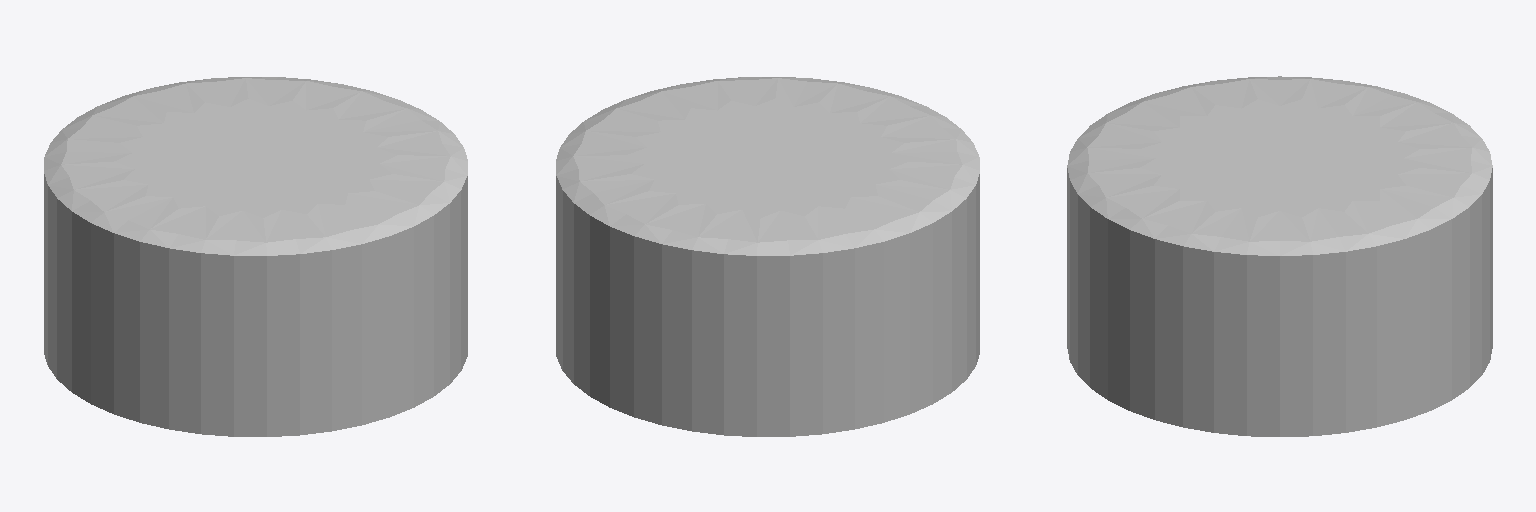
The model's file is cylinder_meshBetter.obj.
3 views of the same model, side by side, from view 1: azimuth 30°, elevation 25°; view 2: azimuth 150°, elevation 25°; view 3: azimuth 270°, elevation 25° (orthographic).
Visible parts, largest first — view 1: pCylinder1; view 2: pCylinder1; view 3: pCylinder1.
Boxes of the visible parts, x1=… form: pCylinder1: x1=44, y1=77, x2=467, y2=436; pCylinder1: x1=556, y1=77, x2=979, y2=436; pCylinder1: x1=1067, y1=76, x2=1492, y2=436.
Bounding box in the file's own units: 1.98 × 1 × 1.98.